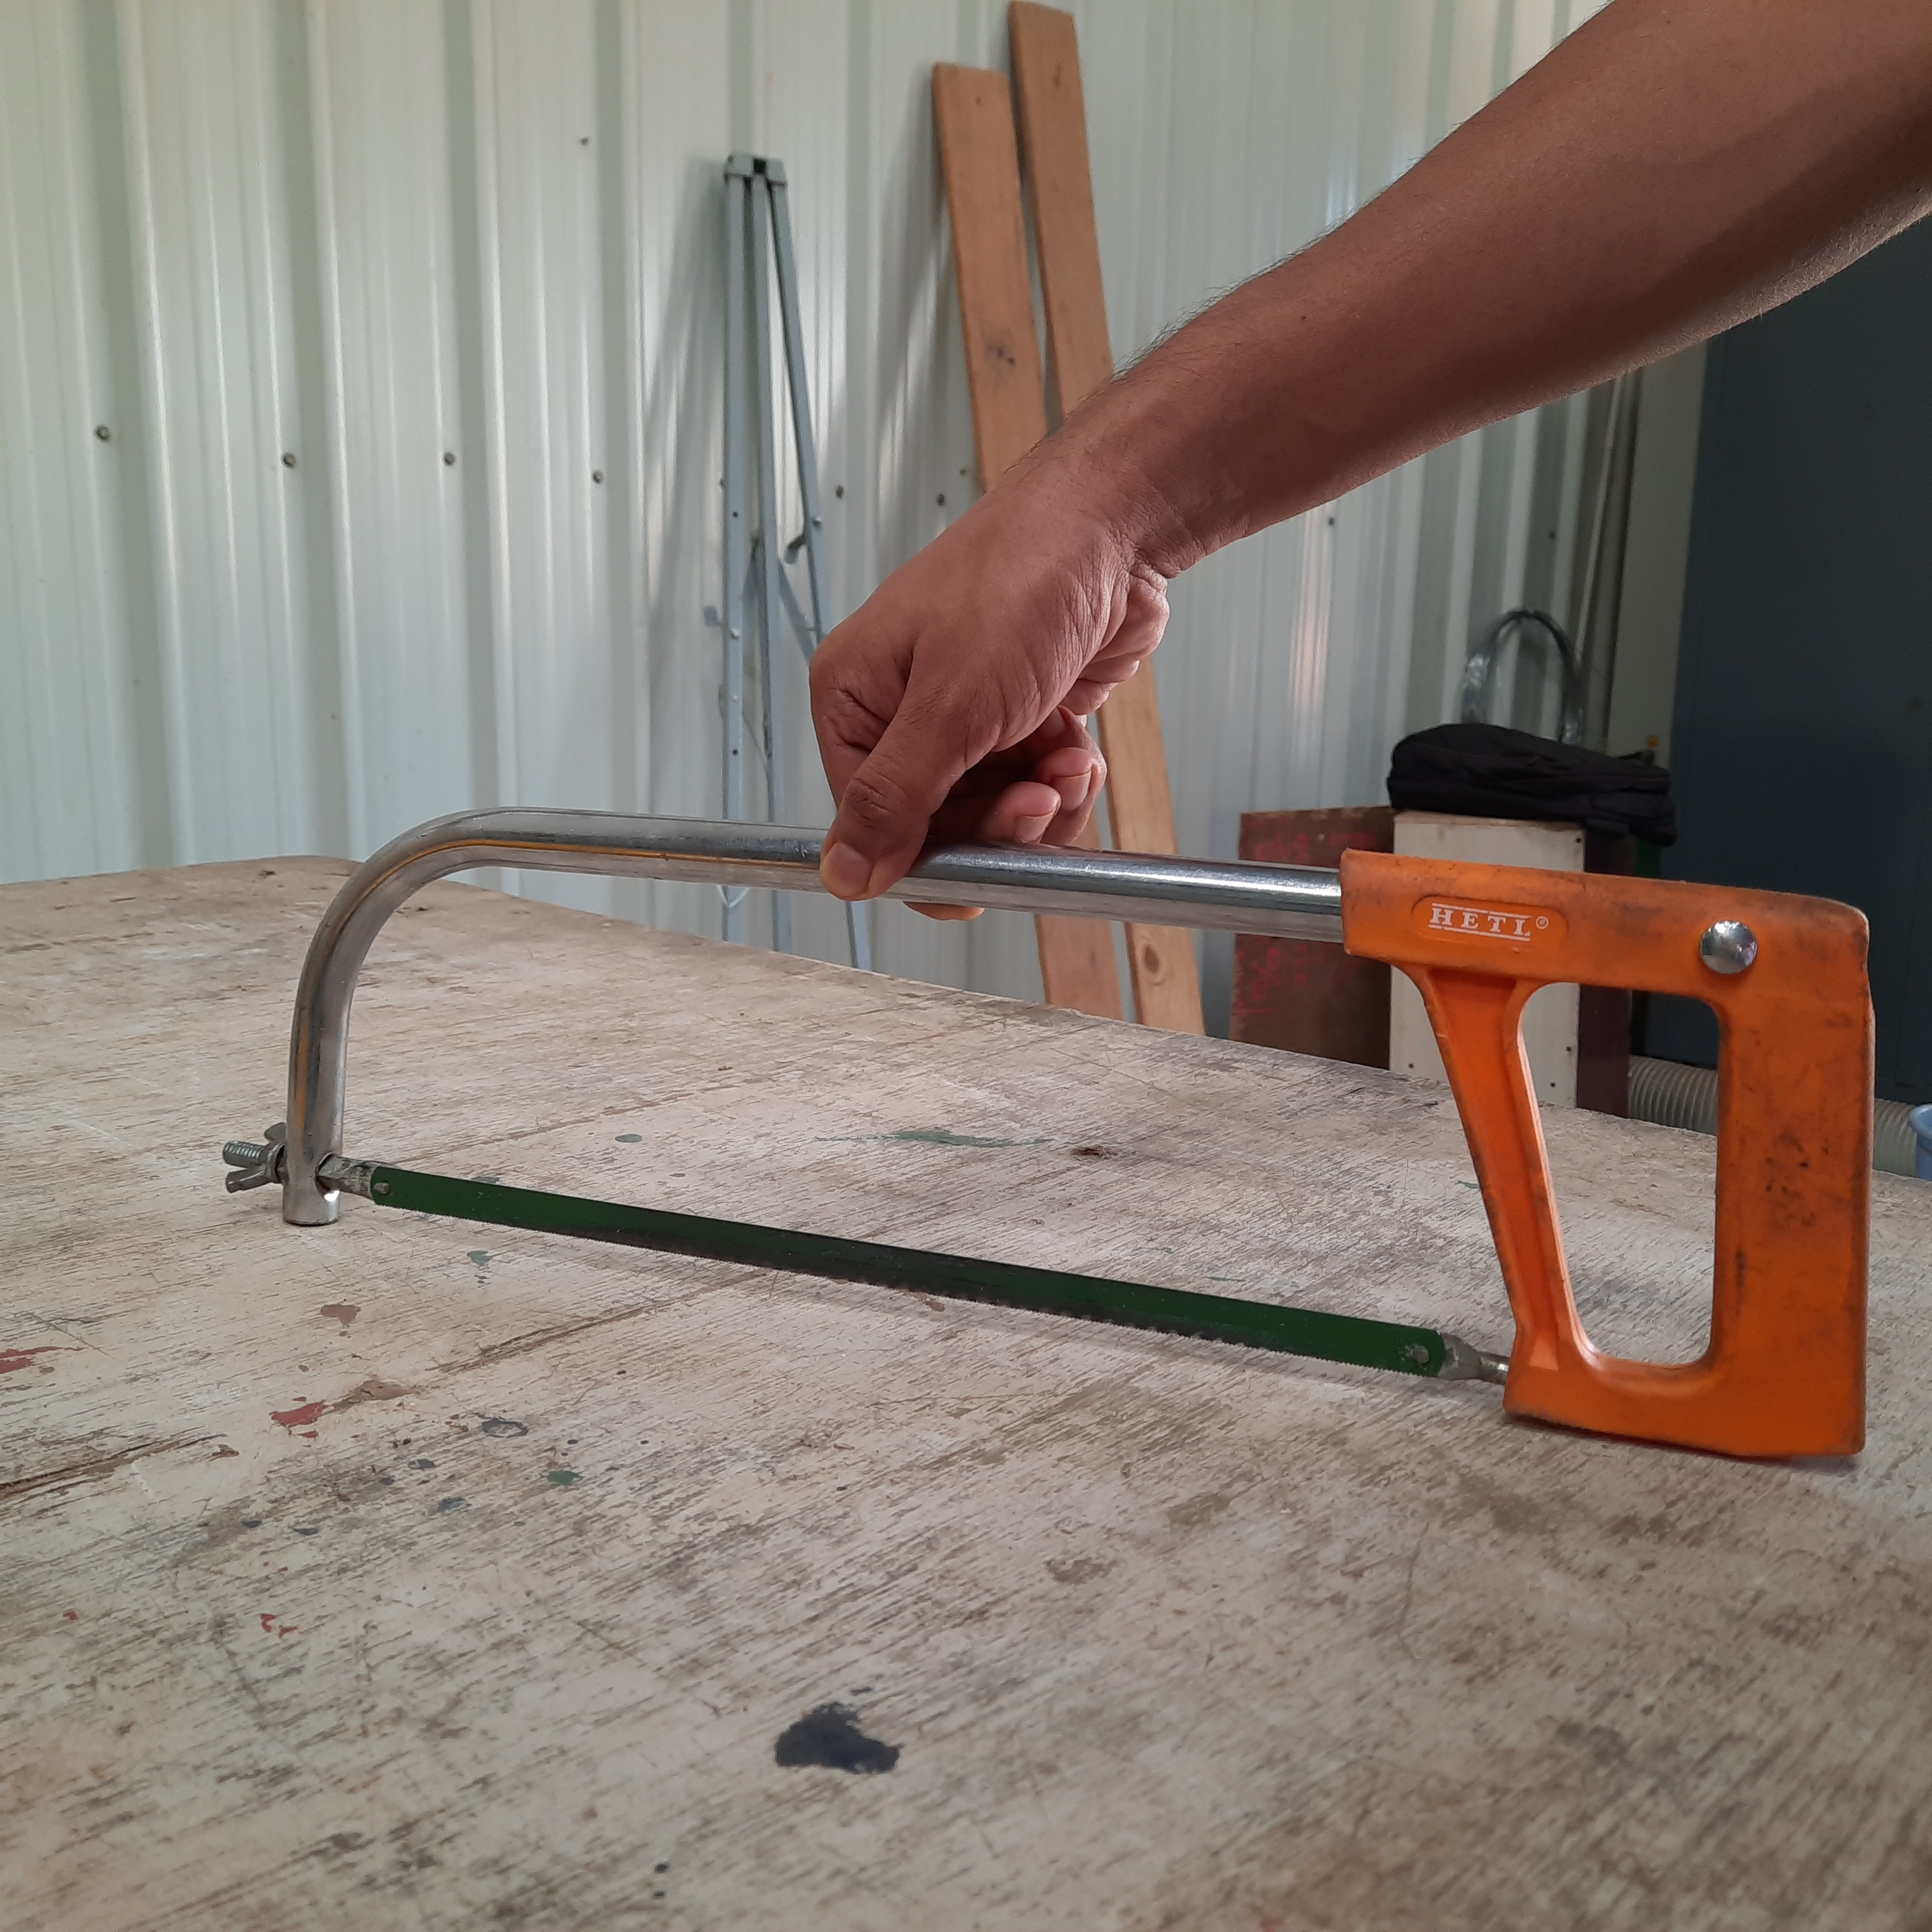Hexaframe: (202, 771, 1886, 1491)
